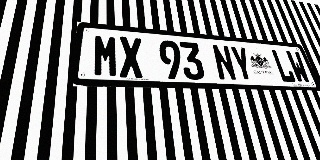3: (179, 41, 205, 80)
9: (158, 40, 184, 79)
L: (270, 49, 297, 83)
M: (93, 34, 119, 77)
N: (211, 44, 238, 81)
W: (285, 51, 312, 83)
X: (119, 36, 144, 78)
Y: (229, 46, 256, 82)
